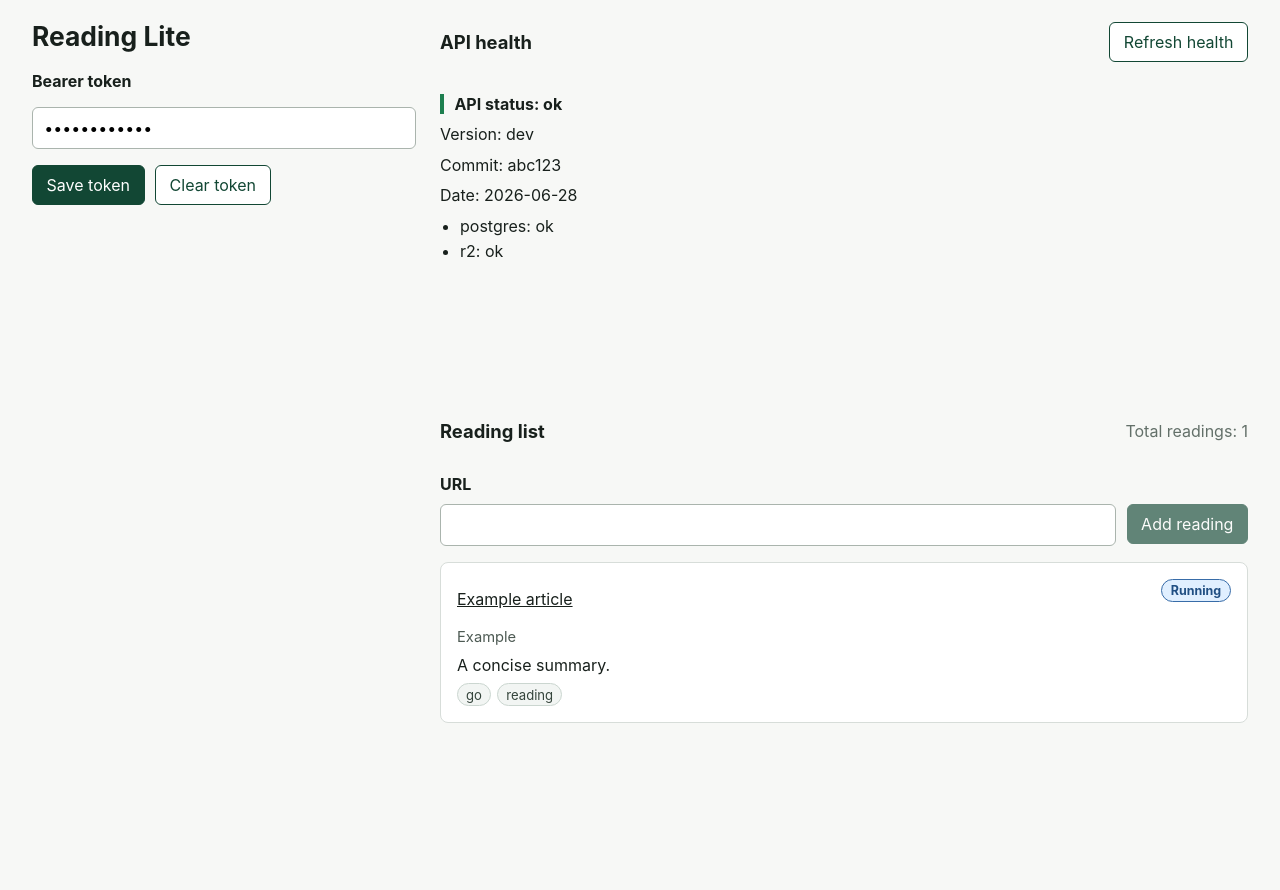
Test: ReadingDetail › shows a processing placeholder for a running reading and does not fetch content
Click the button "Example article". click: click(515, 599)
box: x1=457 y1=579 x2=573 y2=619
(page scrolled)
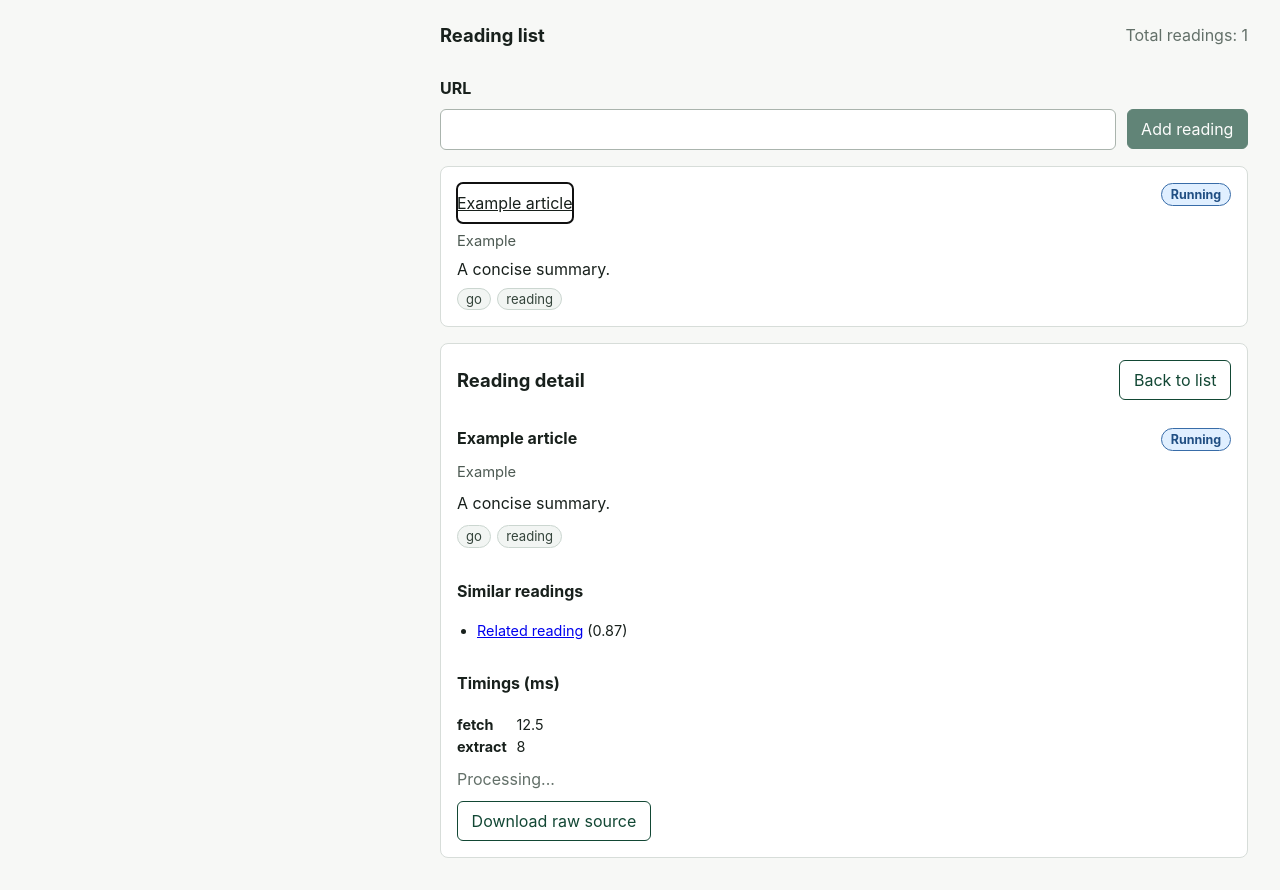
Check: the text "Processing..." is shown, box x1=457 y1=770 x2=555 y2=790
